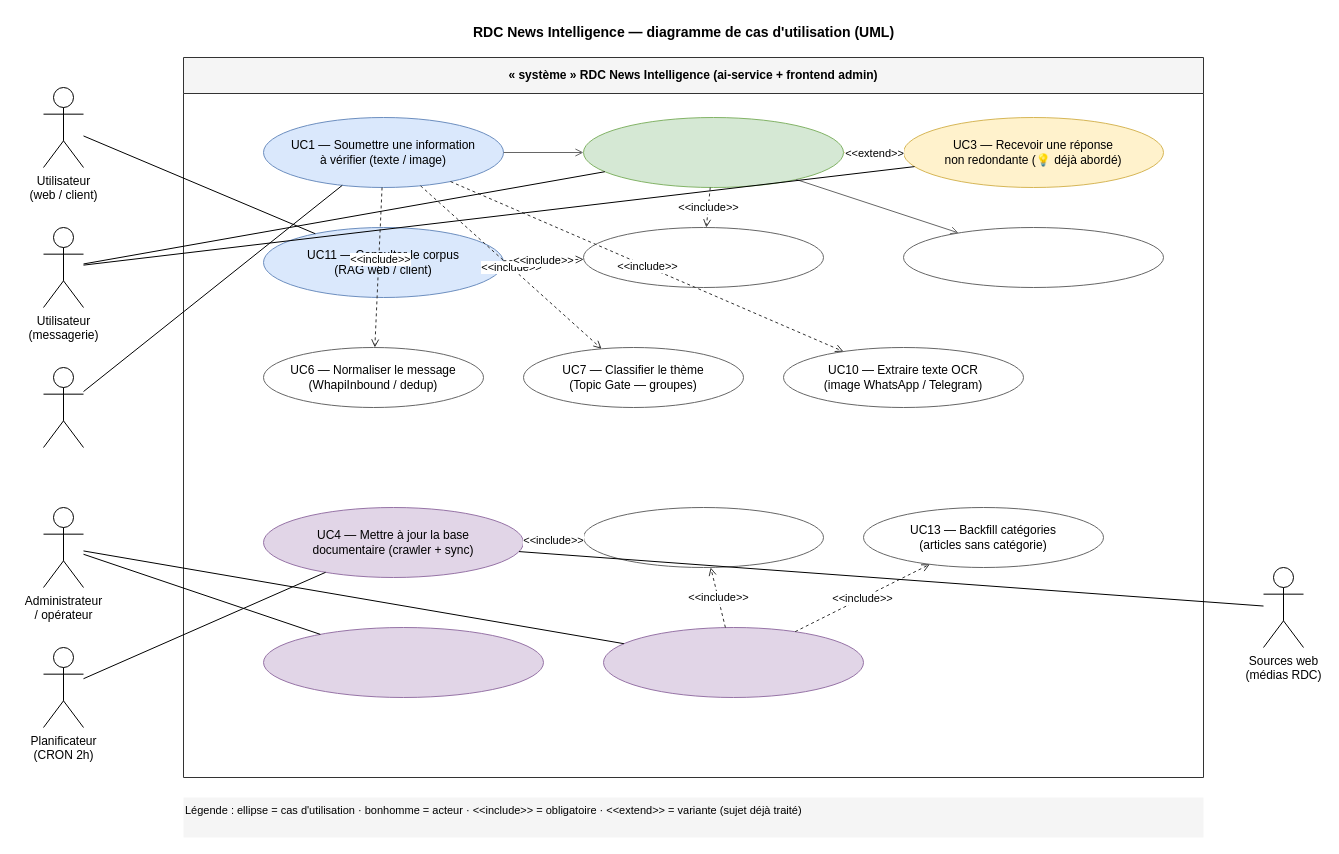
This 1339x854 diagram has some shape labels left out. The centre of each missing label's shape, as x and y in pixels:
"Passerelle Whapi / Telegram" belongs at point (63, 407).
"UC12 — Détecter sujet similaire (mémoire conversationnelle Redis)" belongs at point (1033, 257).
"UC14 — Lancer jobs admin (crawl manuel, re-embedding)" belongs at point (733, 662).
"UC2 — Recevoir un verdict contextualisé (VRAI / FAUX / IMPRÉCIS)" belongs at point (713, 152).
"UC5 — Superviser l'état du service (admin : stats, santé, jobs)" belongs at point (403, 662).
"UC8 — Récupérer les sources (retrieval Chroma Top-K)" belongs at point (703, 257).
"UC9 — Indexer en vectoriel (re-embedding Chroma)" belongs at point (703, 537).
